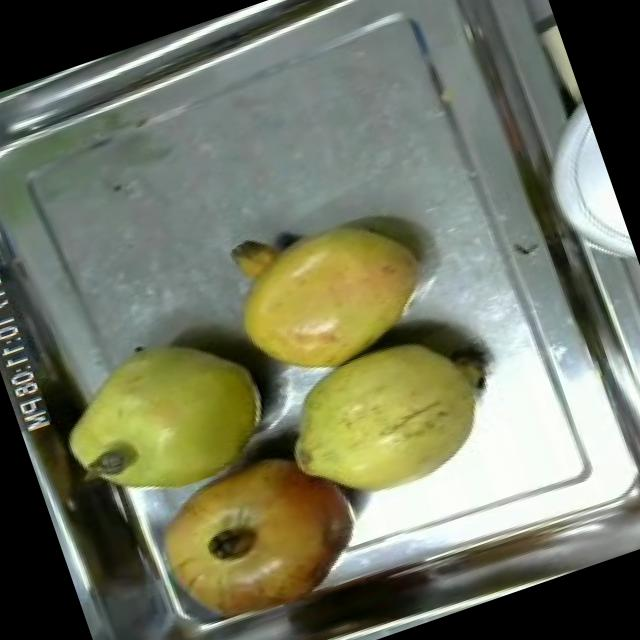fruit: (256, 306, 520, 526), (35, 303, 288, 526), (205, 185, 456, 401), (131, 428, 383, 640)
